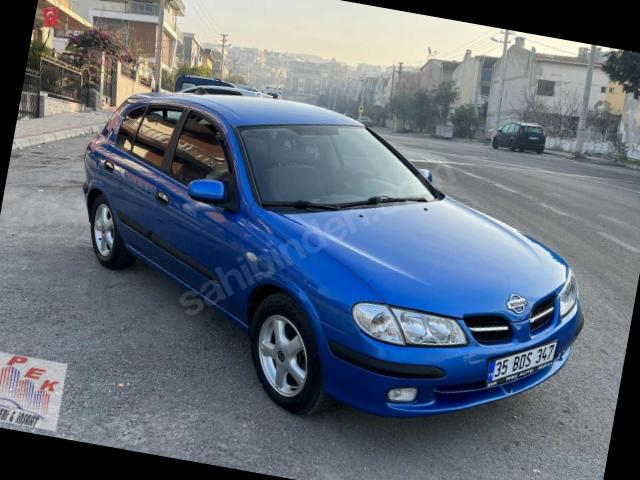plaka: (485, 340, 556, 386)
